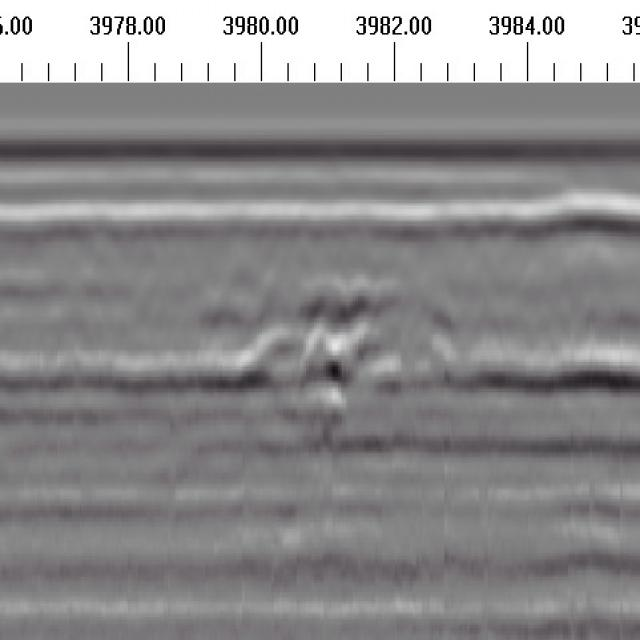loose: (227, 275, 451, 442)
